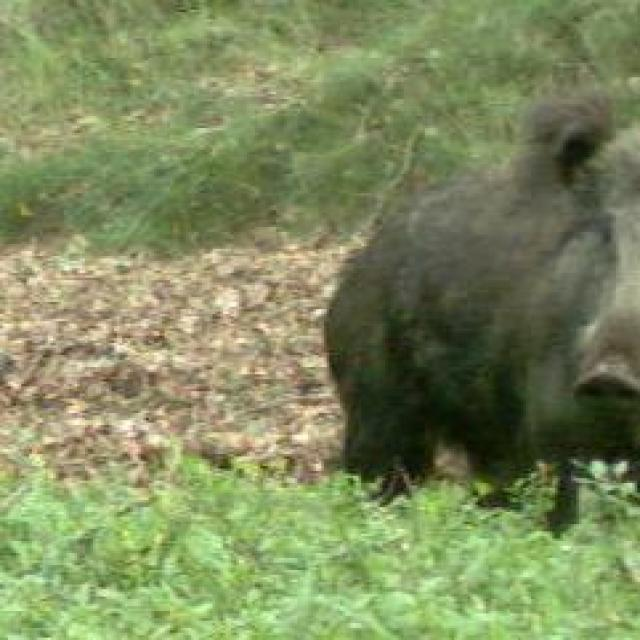pig: (256, 90, 640, 491)
